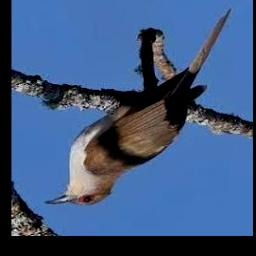Cuckoo: (44, 10, 231, 206)
